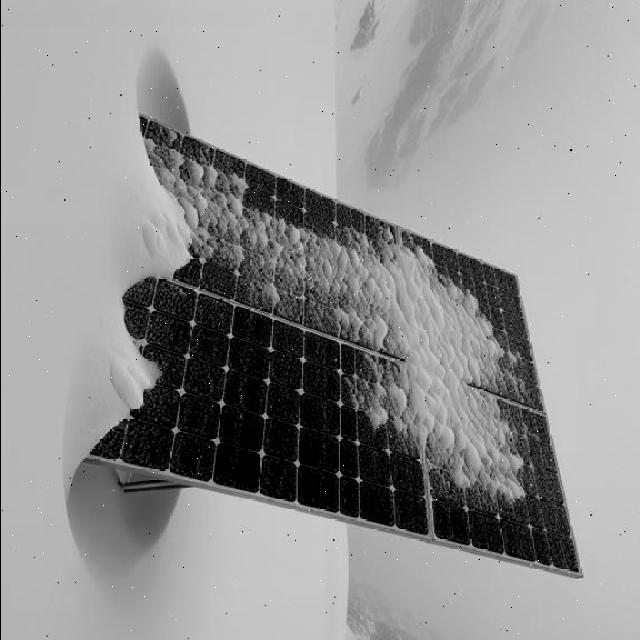Anomaly Solar Panel: (0, 98, 640, 640)
Snow: (50, 96, 592, 521)
